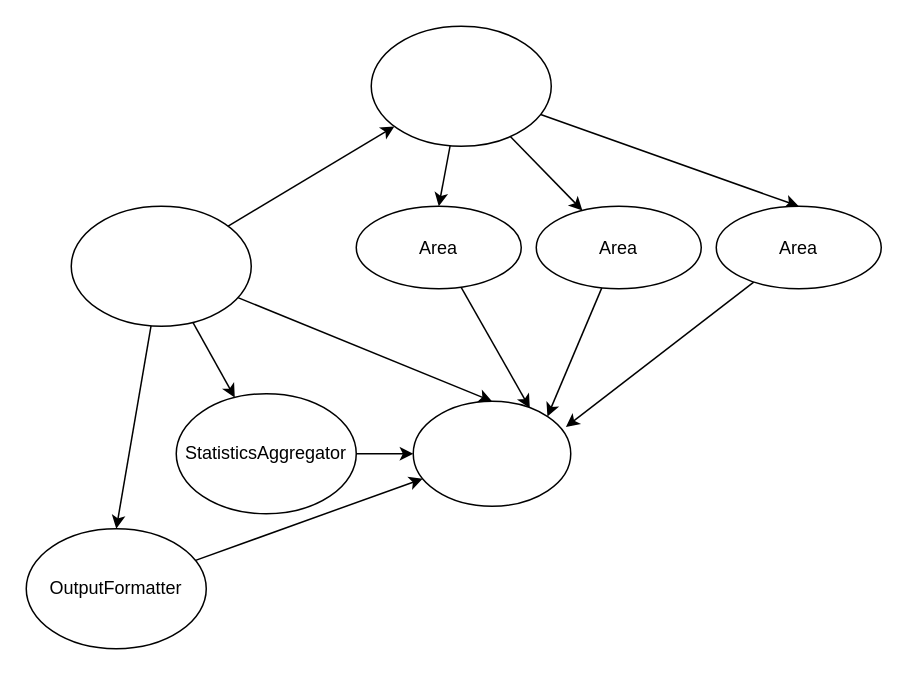
Some shapes in this 908 by 675 pixel diagram are drawn without their labels. Each missing label, with the box of its shape:
EventDispatcher: (412, 400, 571, 506)
ExperimentManager: (70, 205, 251, 326)
Simulation: (370, 25, 551, 146)
